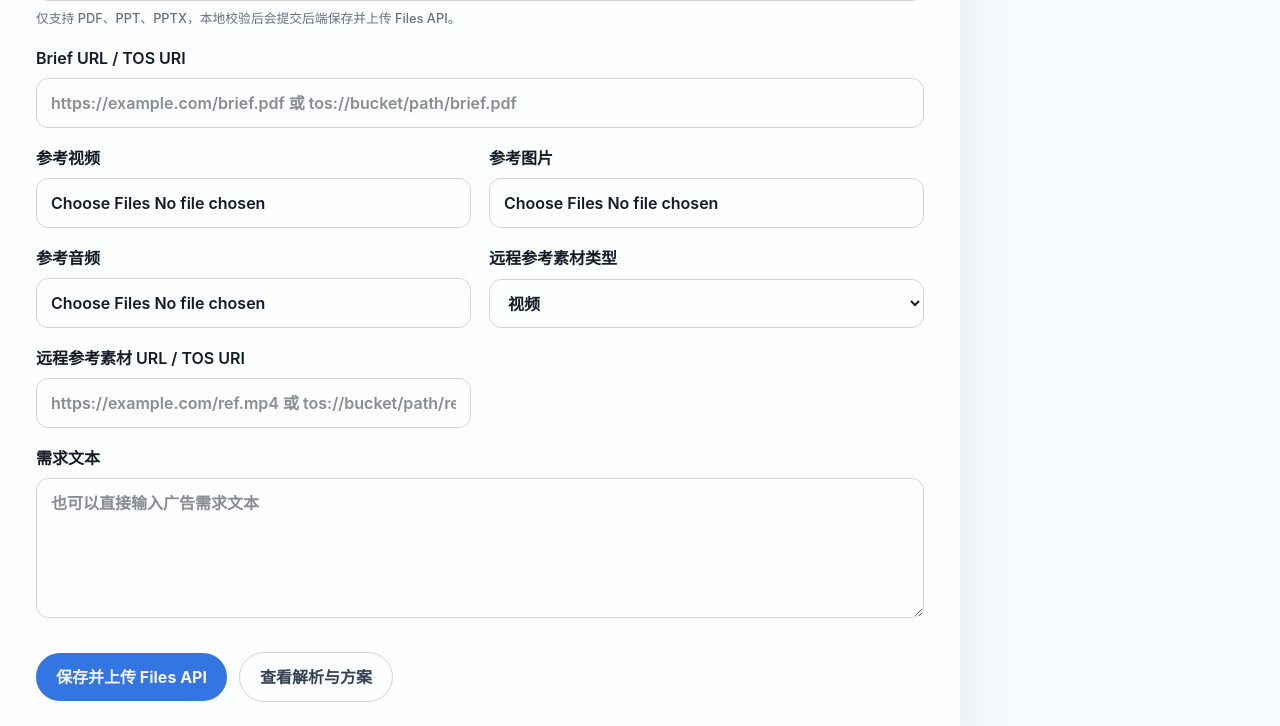
Test: BriefInputPage › 提示用户至少提供一种 brief 输入
The width and height of the screenshot is (1280, 726).
(page scrolled)
What coordinates should you click on to do the following:
click the button "保存并上传 Files API"
I would click on:
 (132, 677)
Its box is [36,653,227,701].
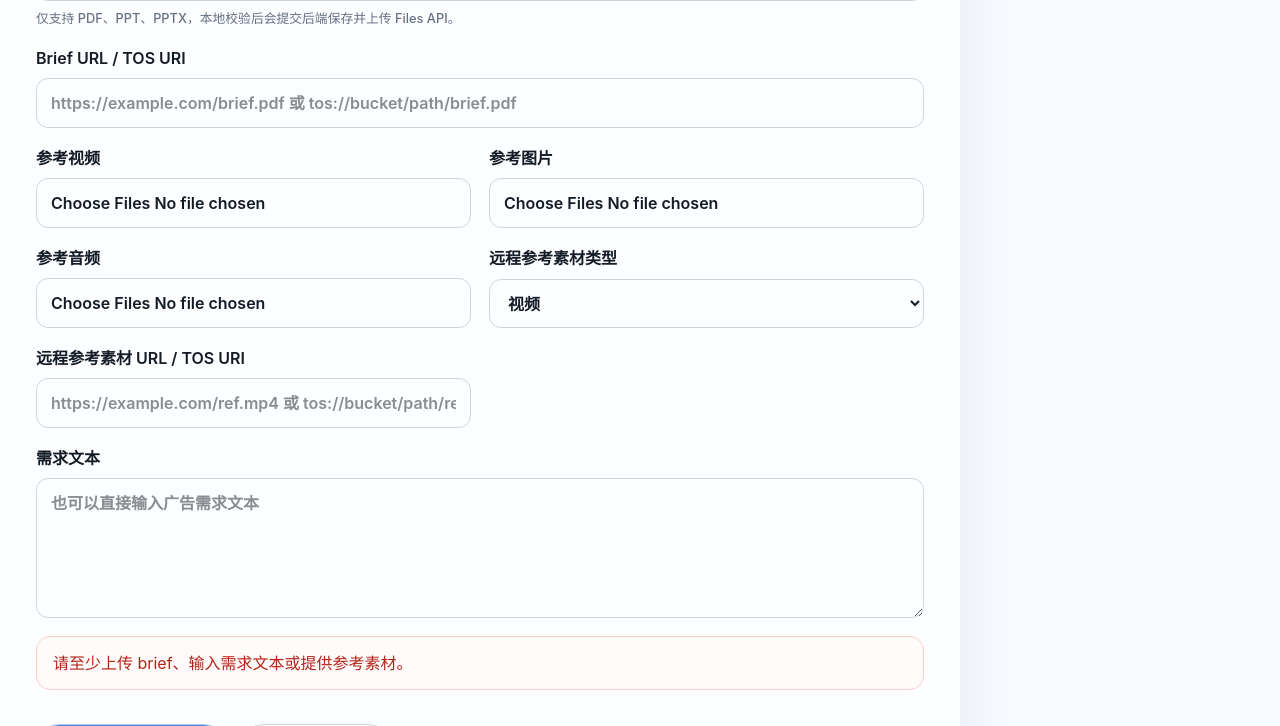
Expected: the text "请至少上传 brief、输入需求文本或提供参考素材。" is shown, [36,636,924,690]
